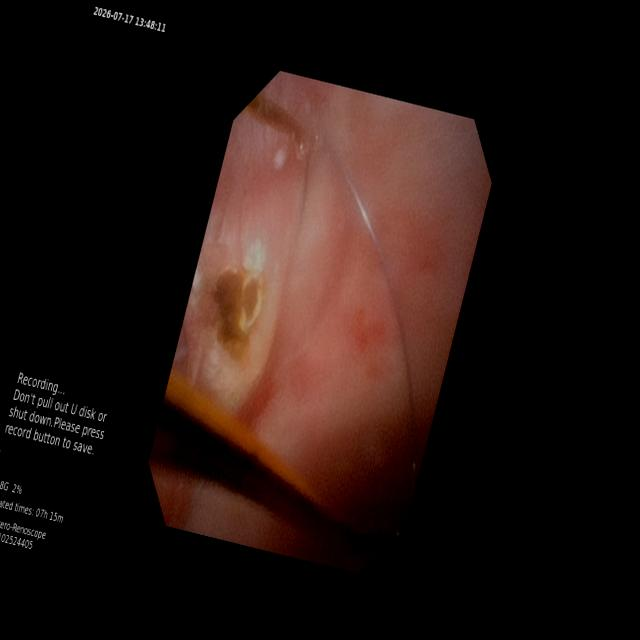stone-new: (212, 267, 261, 342)
